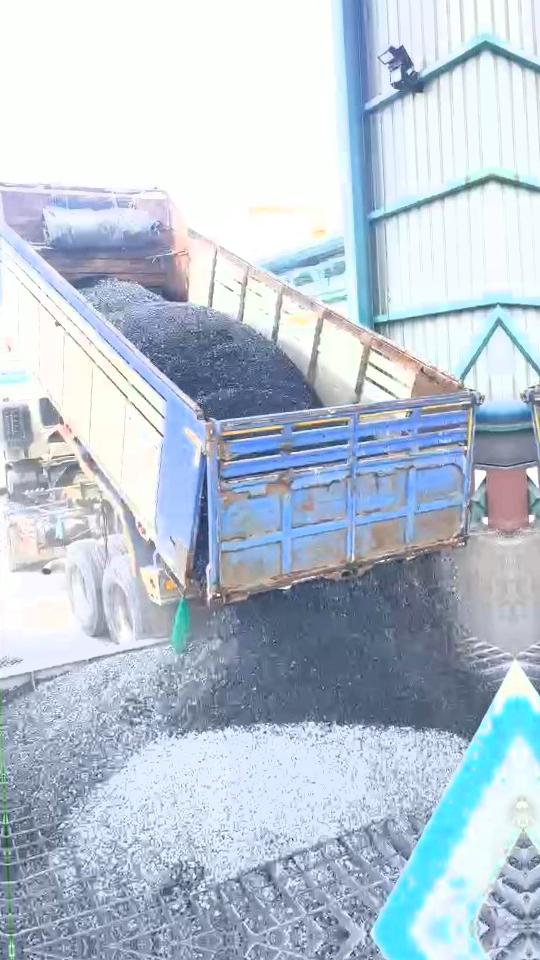gravel: (3, 561, 490, 885), (81, 278, 320, 417), (194, 500, 209, 579)
